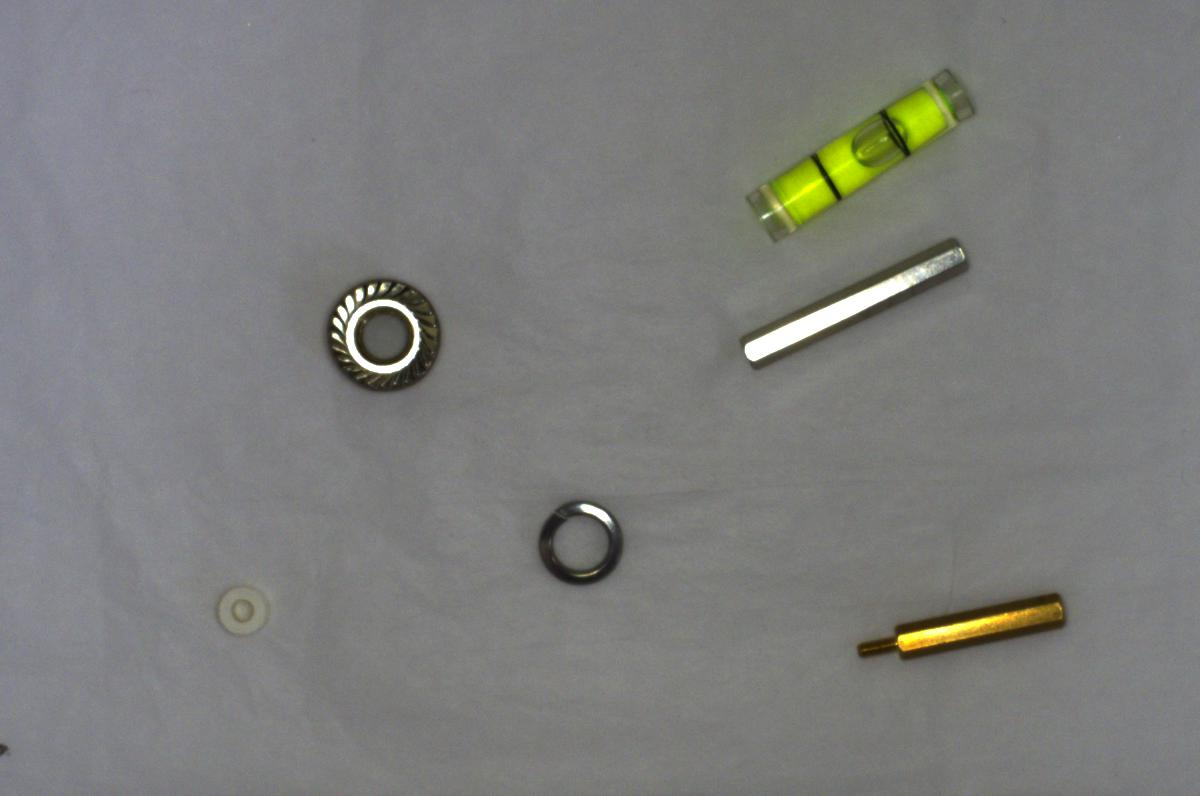Double hexagonal column: (731, 230, 970, 383)
Flange nut: (315, 269, 448, 395)
Hexagon pillar: (852, 580, 1078, 662)
Horizontal bubble: (745, 61, 982, 241)
Plastic cushion pillar: (205, 578, 275, 642)
Spring washer: (534, 494, 633, 588)
